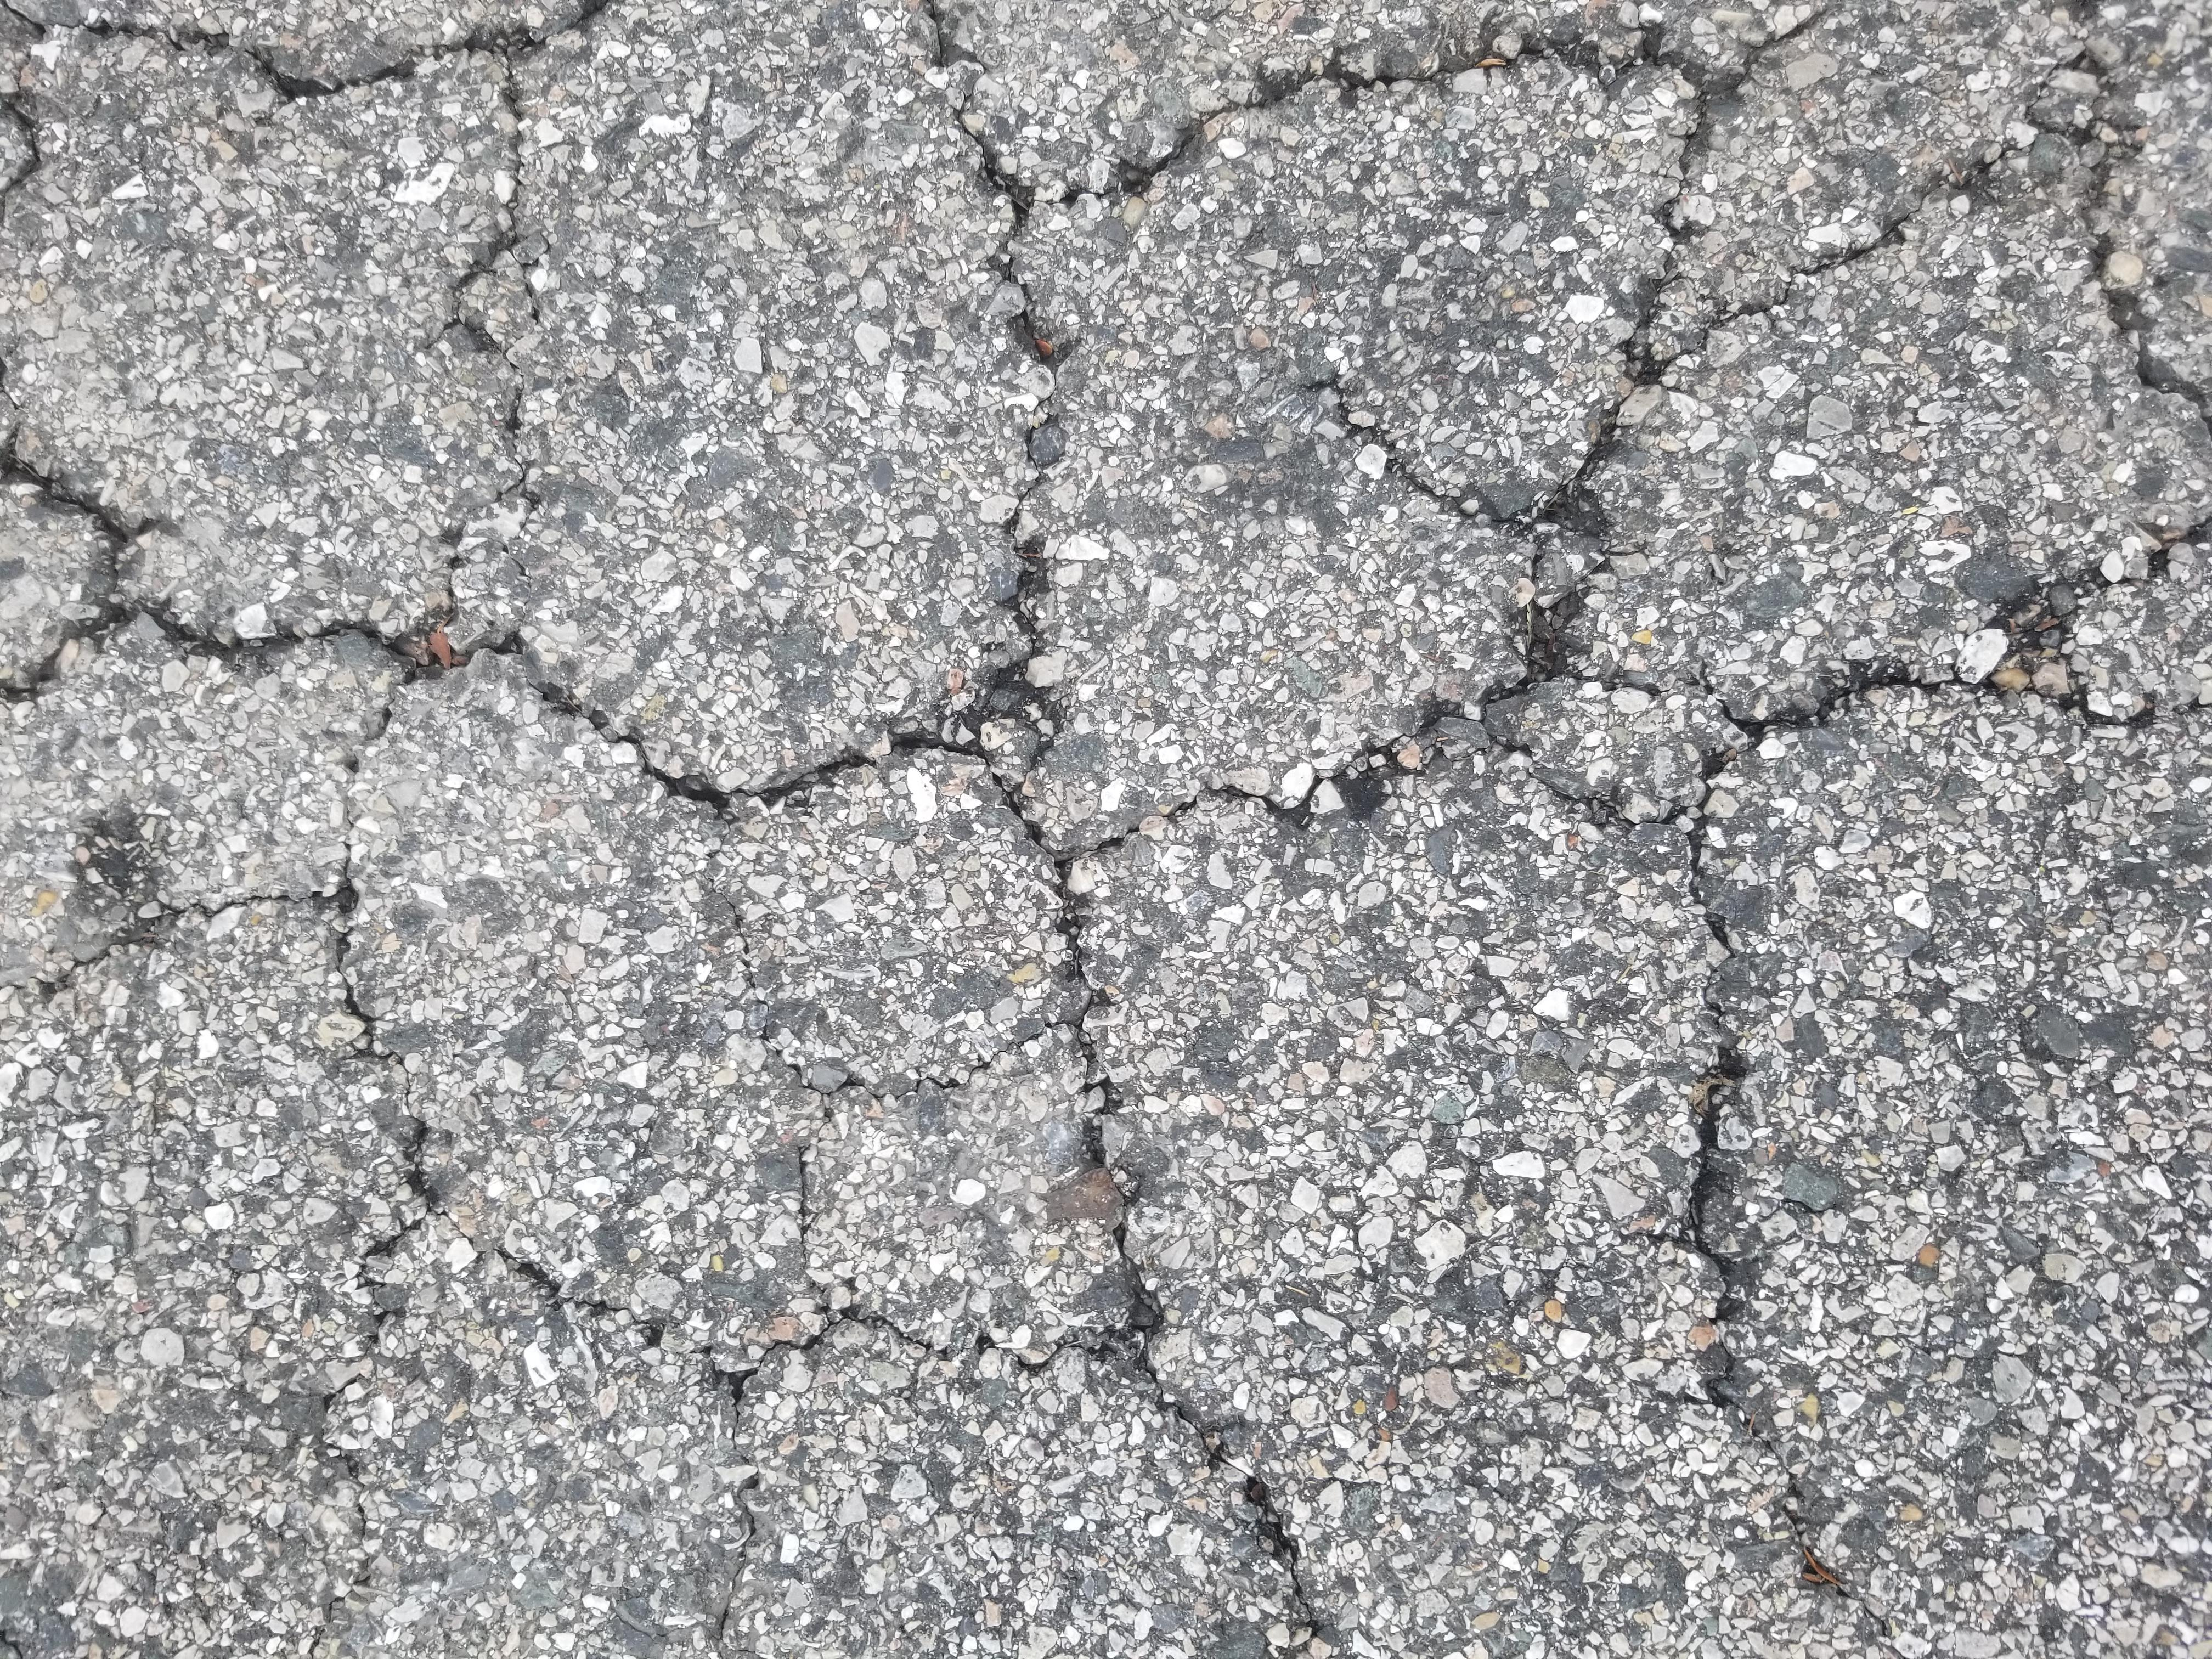alligator-crack: (59, 24, 2181, 1619)
